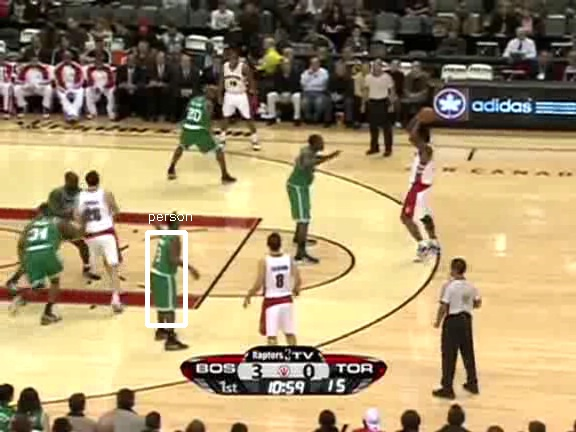person: (150, 233, 184, 314), (149, 233, 183, 314), (151, 233, 185, 314), (150, 232, 184, 313), (150, 234, 184, 315)
target_negative: (426, 95, 563, 415), (101, 111, 559, 177), (252, 49, 375, 207), (354, 278, 558, 300), (133, 406, 520, 415), (310, 27, 314, 325)
